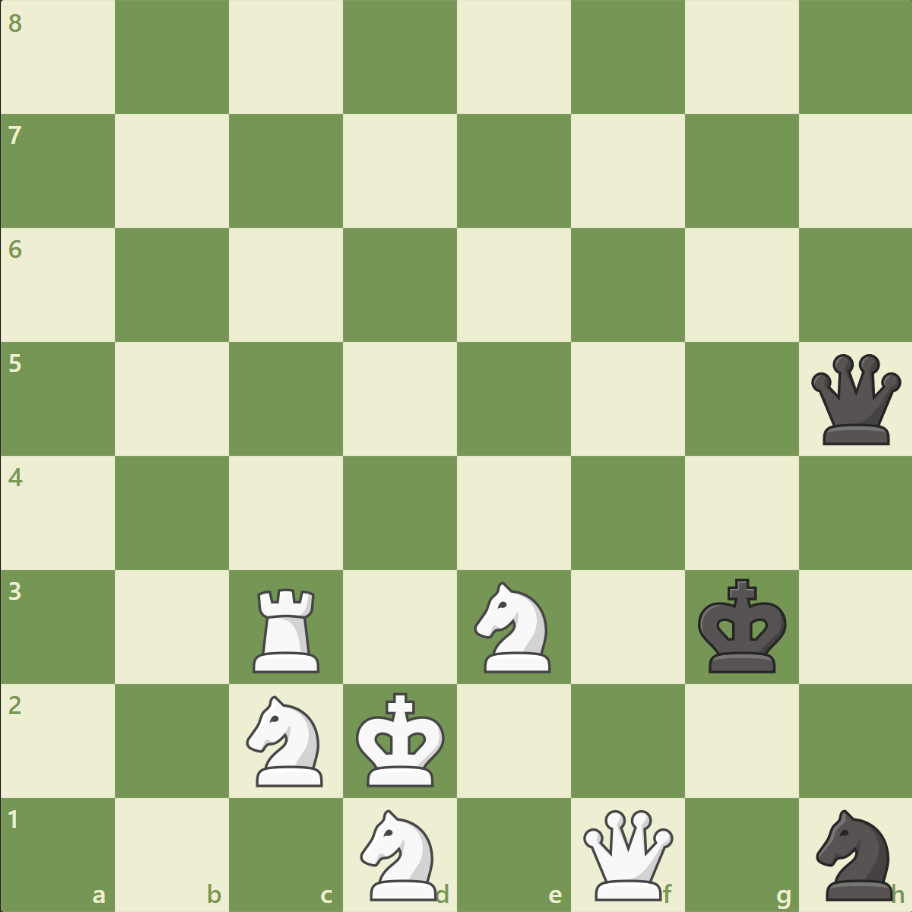K: (351, 685, 451, 793)
N: (351, 802, 449, 904), (238, 688, 335, 791), (465, 575, 562, 677)
Q: (578, 804, 677, 903)
R: (246, 579, 329, 676)
k: (692, 571, 792, 679)
n: (806, 802, 903, 904)
q: (805, 349, 904, 449)
